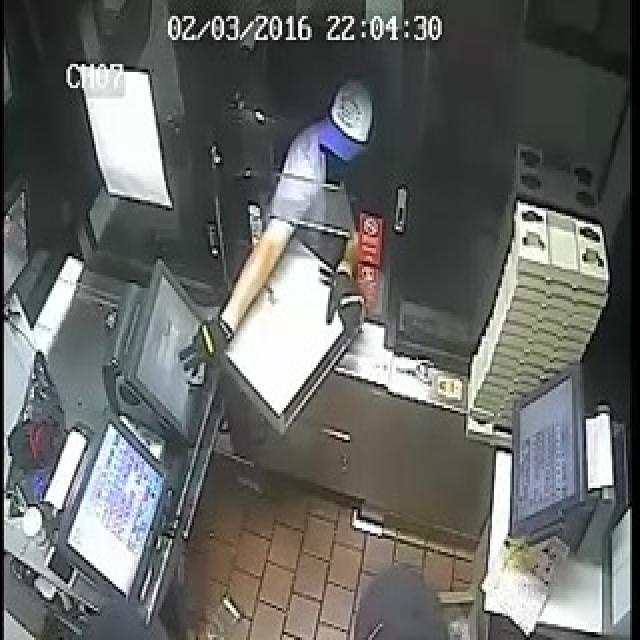thief: (316, 94, 402, 246)
